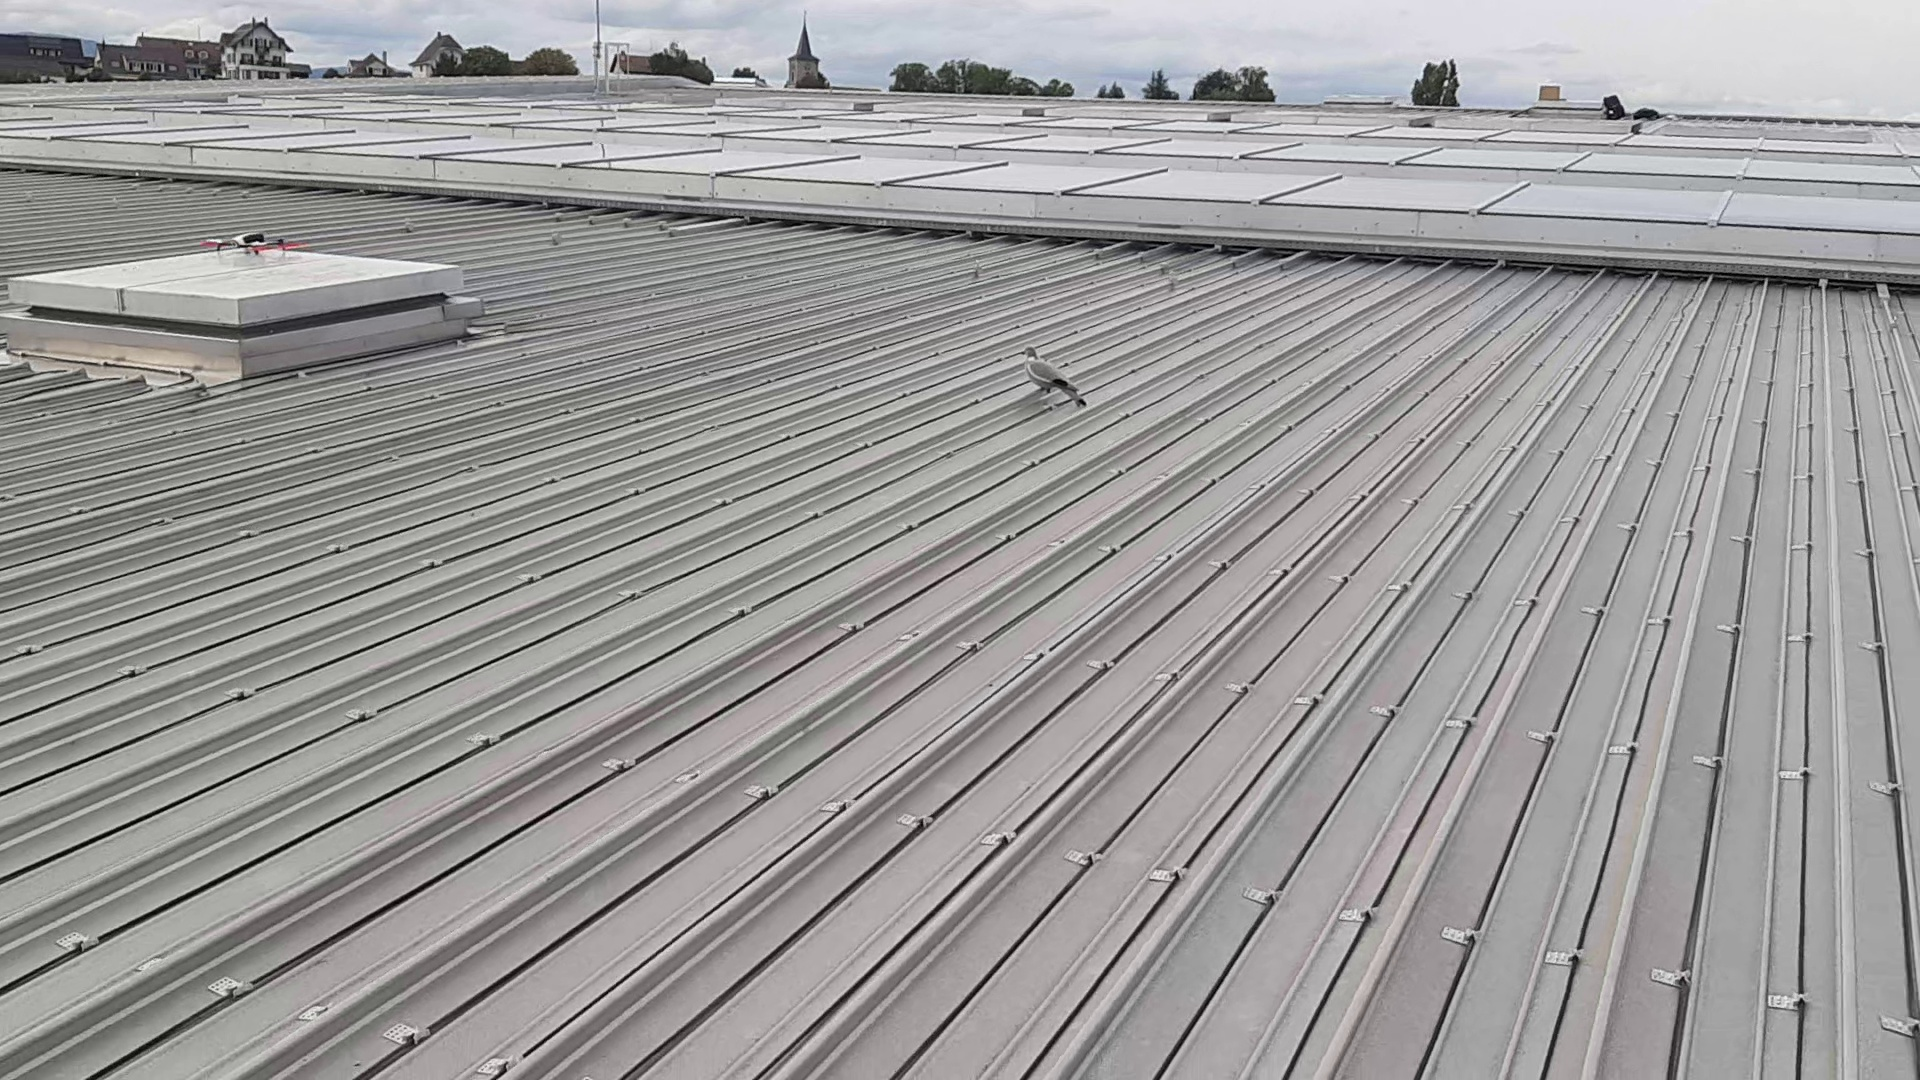Pigeon: (1014, 338, 1093, 407)
